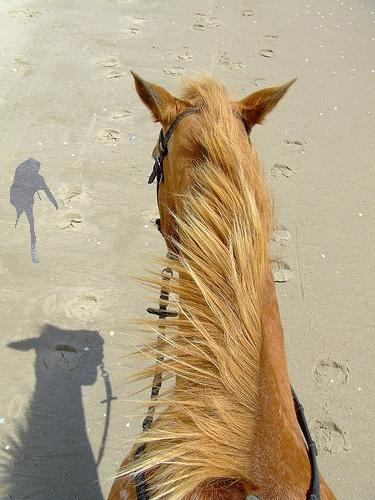tampered: (11, 159, 58, 263)
